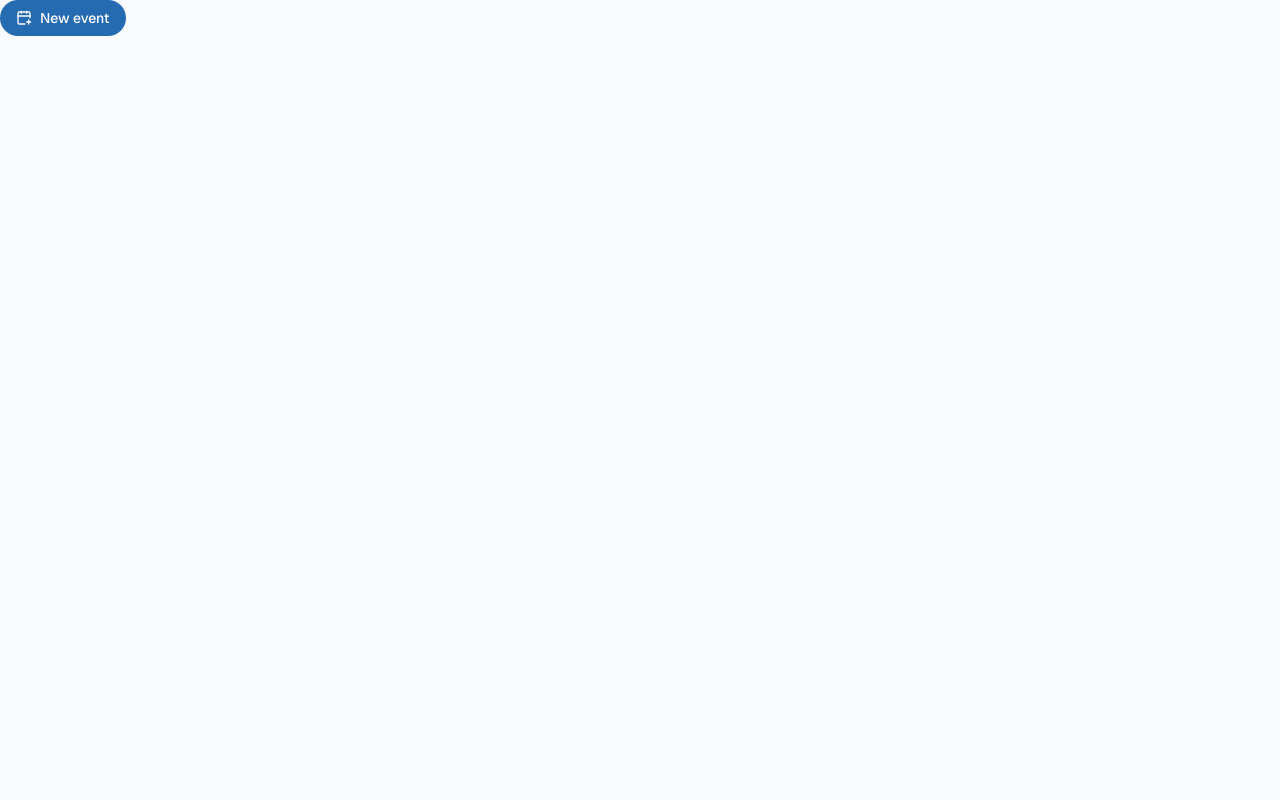
Test case: event dialog › requires an explicit time zone when Outlook does not support the device zone
The width and height of the screenshot is (1280, 800).
Later steps or results of the test are not shown.
Click the button "New event".
click(63, 18)  # box x1=0 y1=0 x2=126 y2=36
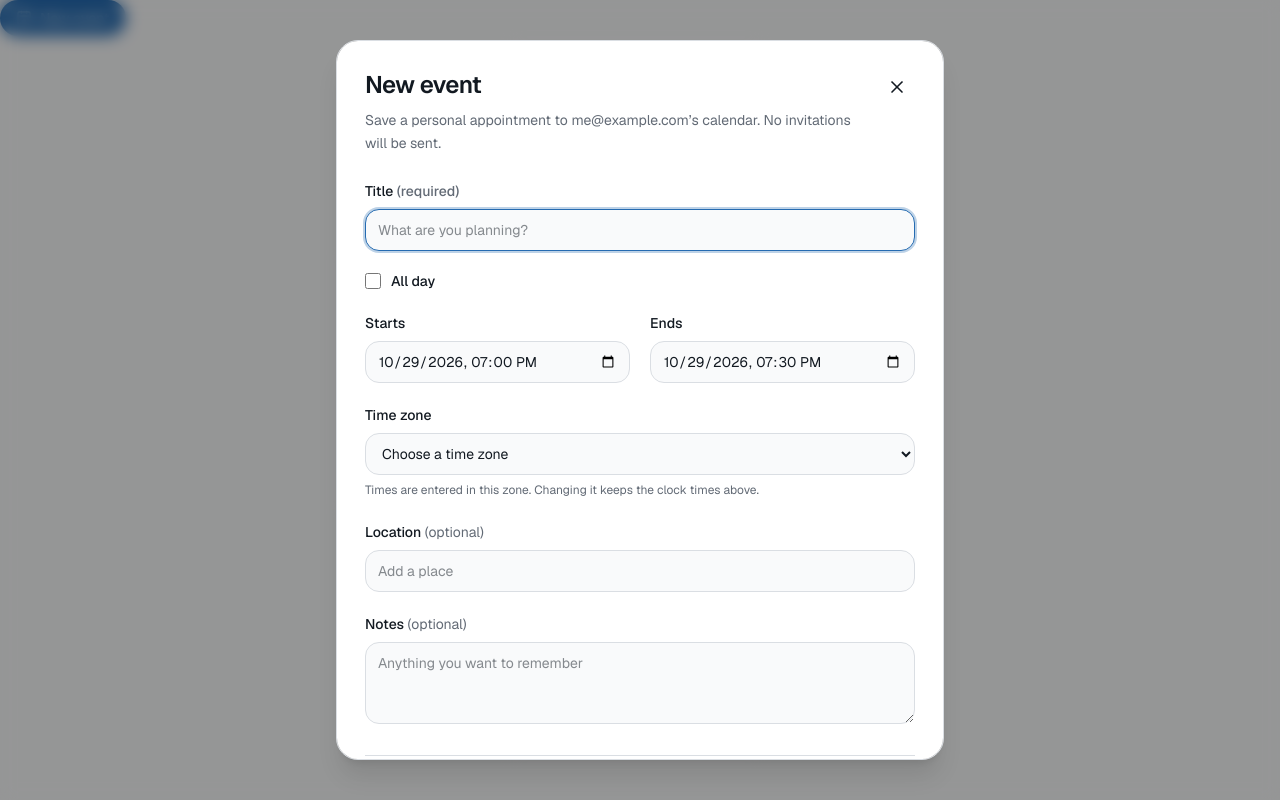
Expected: the dropdown labelled "Time zone" is enabled, x1=365 y1=432 x2=915 y2=474
Expected: the dropdown labelled "Time zone" shows "Choose a time zone", x1=365 y1=432 x2=915 y2=474
Type "Focus time" into the field labelled "Title (required)".
click(640, 230); type("Focus time")  # box x1=365 y1=208 x2=915 y2=250
(page scrolled)
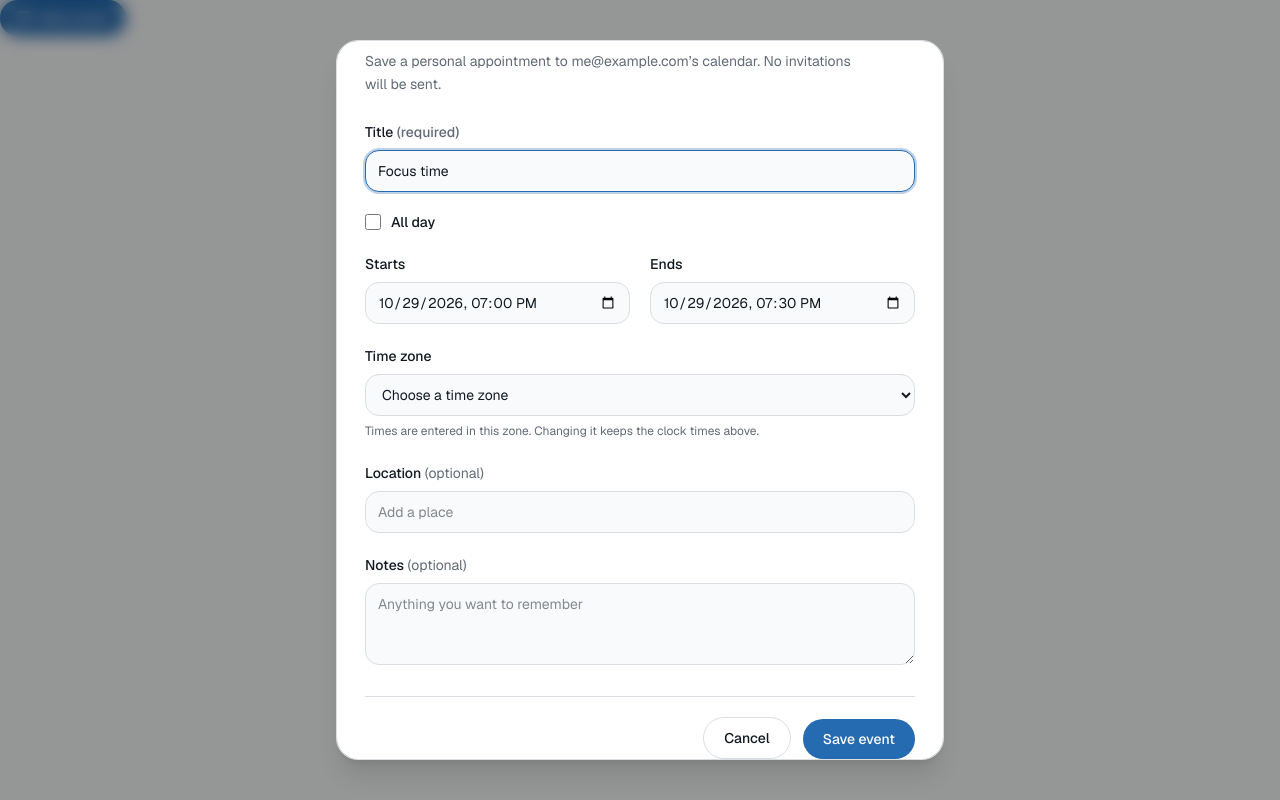
Click the button "Save event".
click(859, 739)  # box x1=803 y1=719 x2=915 y2=759
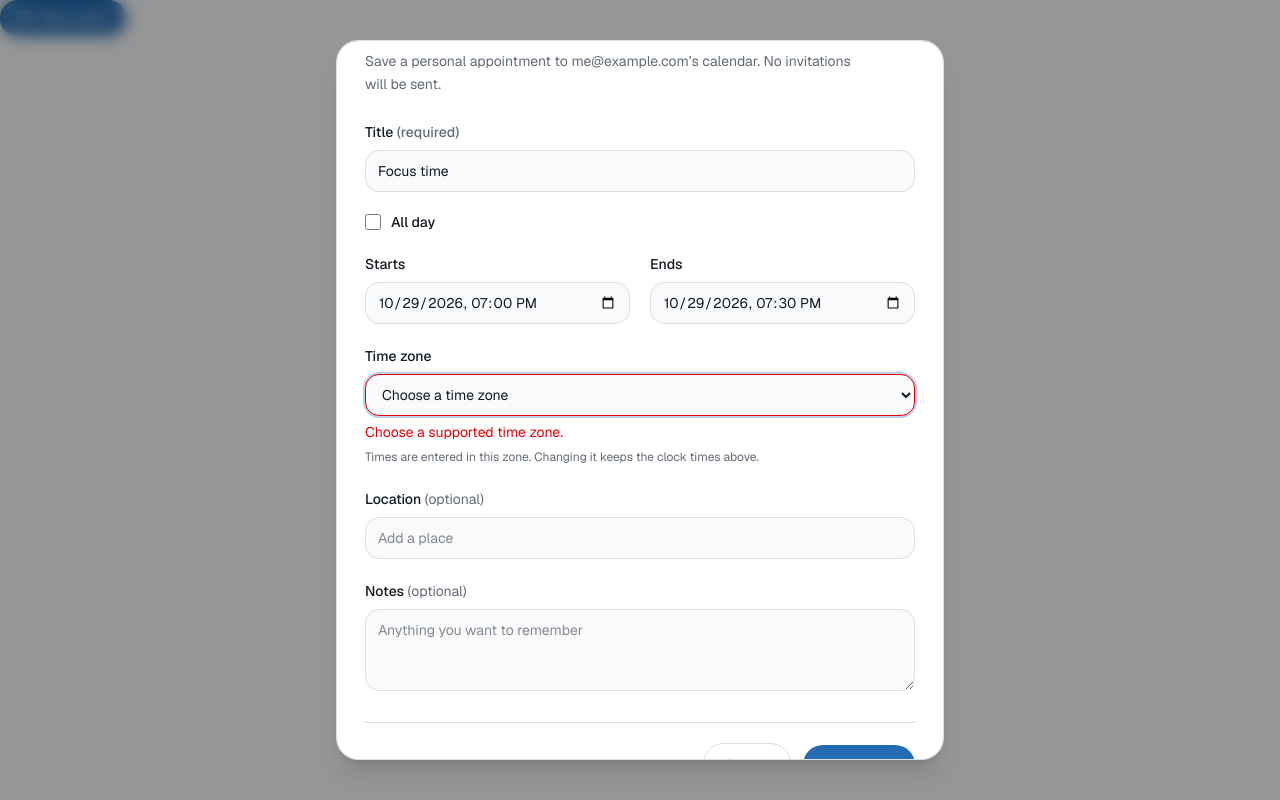
Expected: the text "Choose a supported time zone." is shown, x1=365 y1=422 x2=563 y2=440
